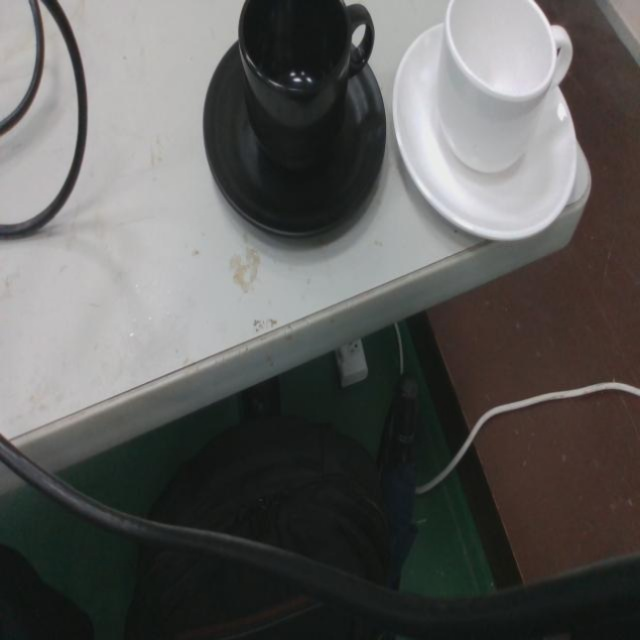black: (199, 0, 389, 246)
white: (389, 0, 580, 247)
